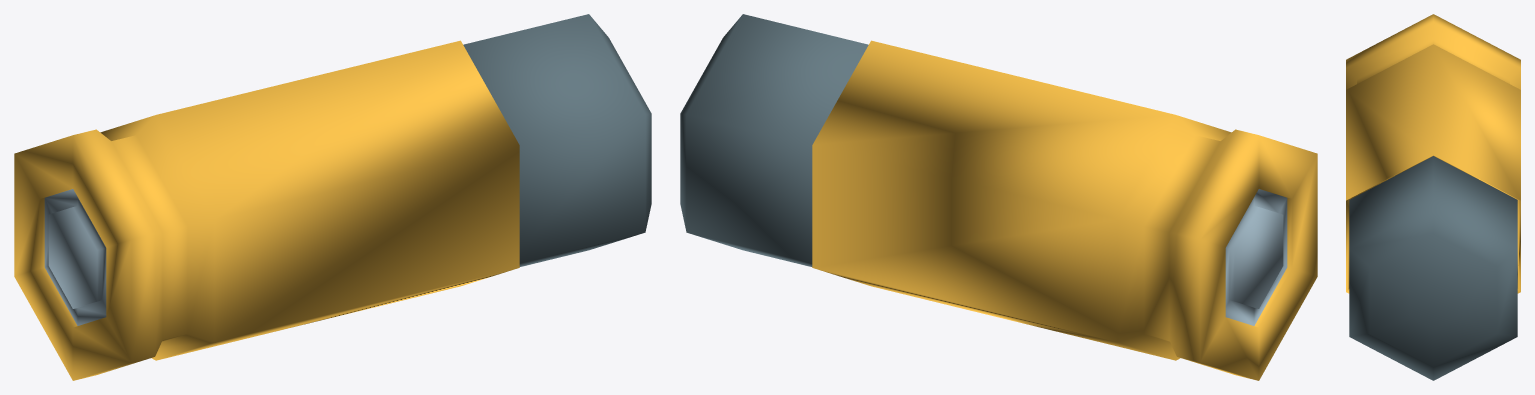
File: char_012_weapon_01_pistol_01_bullet_FBX.fbx
The picture shows the model from 3 angles, left to right: view 1: azimuth 30°, elevation 25°; view 2: azimuth 150°, elevation 25°; view 3: azimuth 270°, elevation 25°; orthographic projection. The views are drawn at different scales.
Visible parts, largest first — view 1: pistol_bullet_capsule, pistol_bullet; view 2: pistol_bullet_capsule, pistol_bullet; view 3: pistol_bullet, pistol_bullet_capsule.
Boxes of the visible parts, x1=… form: pistol_bullet_capsule: x1=14, y1=40, x2=519, y2=380; pistol_bullet: x1=463, y1=14, x2=651, y2=266; pistol_bullet_capsule: x1=812, y1=40, x2=1317, y2=380; pistol_bullet: x1=680, y1=14, x2=868, y2=266; pistol_bullet: x1=1349, y1=156, x2=1517, y2=380; pistol_bullet_capsule: x1=1346, y1=14, x2=1520, y2=293.
Size of the model in its own units: 0.1244 by 0.0532 by 0.0461.
Materials: 1 (1 with a texture image).
